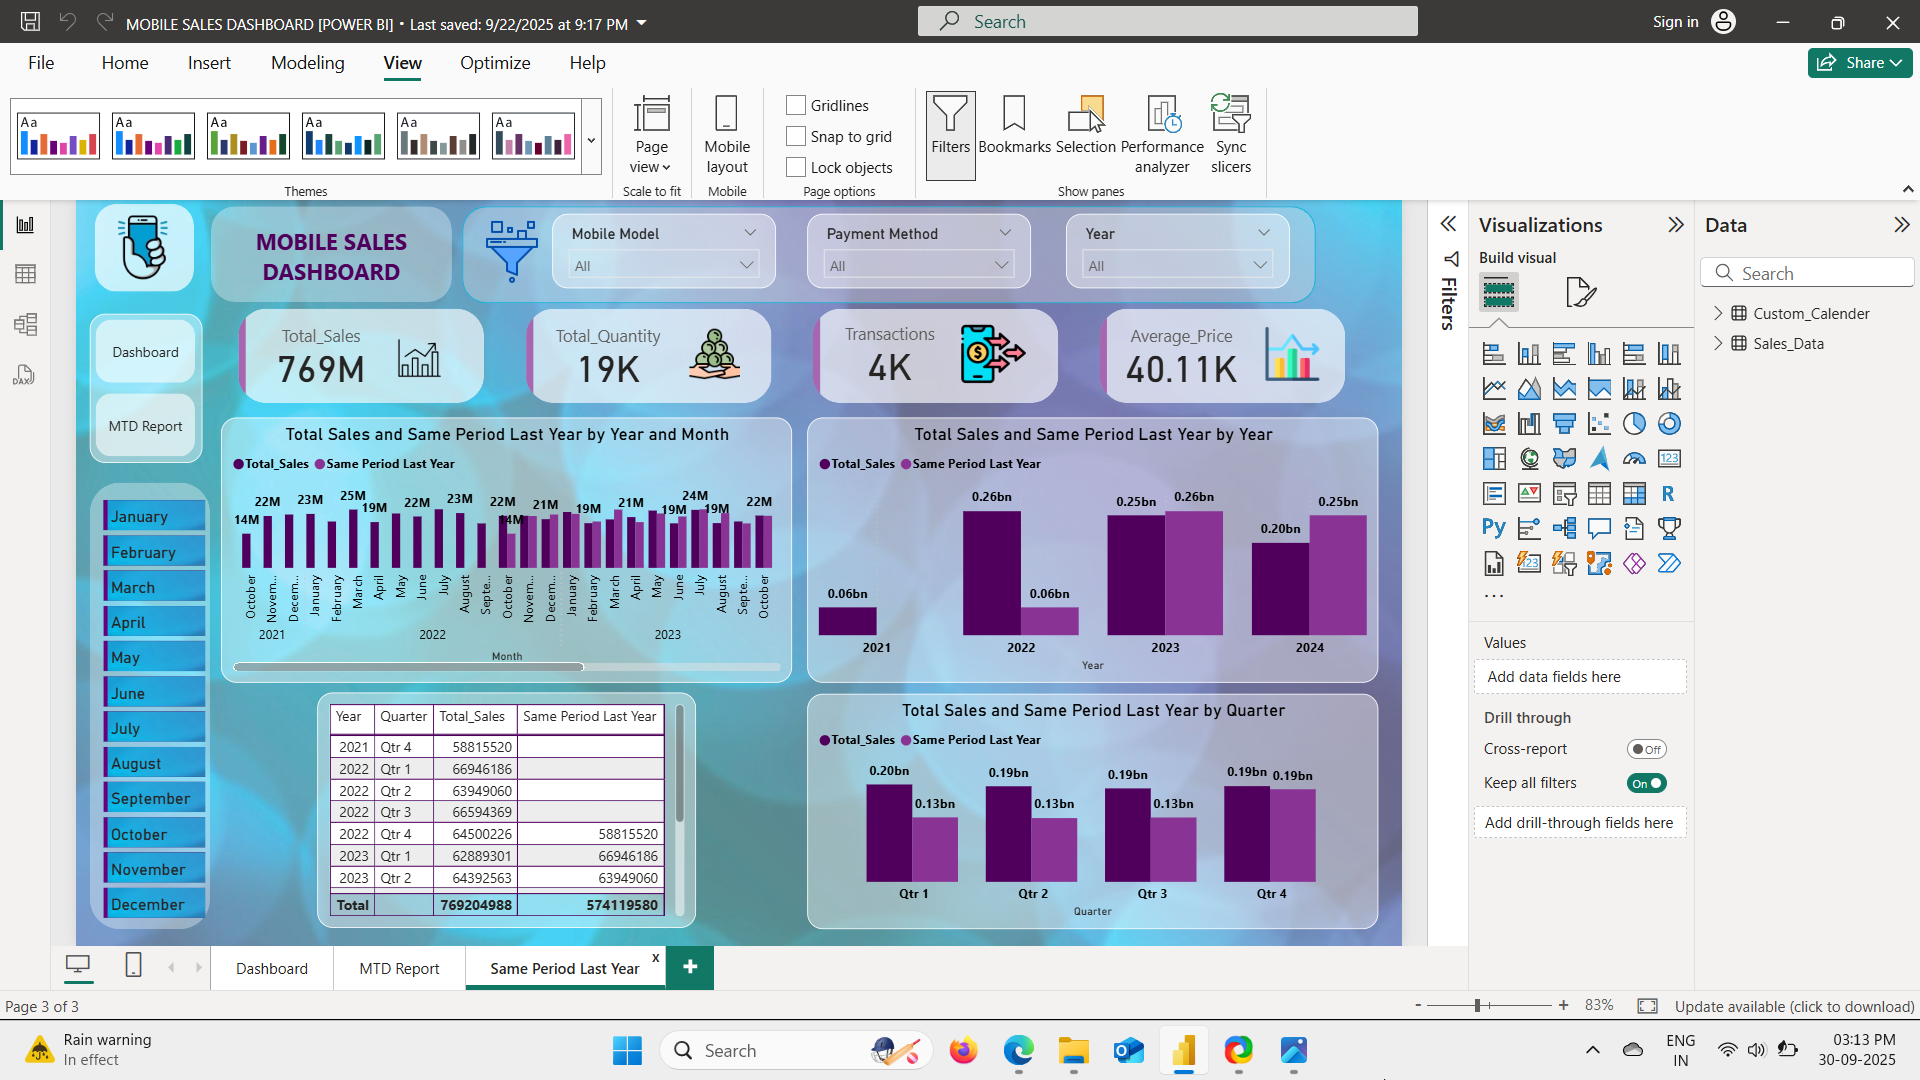

The page's visual inventory and layout, read from the dashboard file:
{"tool":"powerbi","page":{"name":"Same Period Last Year","canvas":[1280,720],"ordinal":2},"visuals":[{"type":"shape","box":[372.5,6.2,823.8,93.8],"z":0},{"type":"slicer","fields":{"Values":["Sales_Data.Mobile Model"]},"box":[460,13.3,216,72],"z":1000},{"type":"slicer","fields":{"Values":["Sales_Data.Payment Method"]},"box":[705.3,13.3,216,72],"z":2000},{"type":"slicer","fields":{"Values":["Custom_Calender.Date.Variation.Date Hierarchy.Year"]},"box":[956,13.3,216,72],"z":3000},{"type":"shape","box":[130,6.2,232.5,92.5],"z":4000},{"type":"textbox","box":[130,20,232.5,68.8],"z":5000},{"type":"shape","box":[13.8,272.5,116.2,431.2],"z":6000},{"type":"advancedSlicerVisual","fields":{"Values":["Custom_Calender.Date.Variation.Date Hierarchy.Month"]},"box":[21.2,285,108.8,418.8],"z":7000},{"type":"tableEx","fields":{"Values":["Custom_Calender.Date.Variation.Date Hierarchy.Year","Custom_Calender.Date.Variation.Date Hierarchy.Quarter","Sales_Data.Total_Sales","Sales_Data.Same Period Last Year"]},"box":[232.9,475.7,365.7,227.1],"z":8000},{"type":"clusteredColumnChart","title":"Total Sales and Same Period Last Year by Year","fields":{"Category":["Custom_Calender.Date.Variation.Date Hierarchy.Year","Custom_Calender.Date.Variation.Date Hierarchy.Quarter"],"Y":["Sales_Data.Total_Sales","Sales_Data.Same Period Last Year"]},"box":[705.7,210,551.4,255.7],"z":9000},{"type":"clusteredColumnChart","title":"Total Sales and Same Period Last Year by Year and Month","fields":{"Y":["Sales_Data.Total_Sales","Sales_Data.Same Period Last Year"],"Category":["Custom_Calender.Date.Variation.Date Hierarchy.Year","Custom_Calender.Date.Variation.Date Hierarchy.Month"]},"box":[140,210,551.4,255.7],"z":10000},{"type":"clusteredColumnChart","title":"Total Sales and Same Period Last Year by Quarter","fields":{"Category":["Custom_Calender.Date.Variation.Date Hierarchy.Year","Custom_Calender.Date.Variation.Date Hierarchy.Quarter"],"Y":["Sales_Data.Total_Sales","Sales_Data.Same Period Last Year"]},"box":[705.7,477.1,551.4,227.1],"z":11000},{"type":"pageNavigator","box":[12.9,110,108.6,144.3],"z":12000},{"type":"cardVisual","fields":{"Data":["Sales_Data.Total_Sales","Sales_Data.Total_Quantity","Sales_Data.Transactions","Sales_Data.Average_Price"]},"box":[151.7,100,1078.3,101.7],"z":13000},{"type":"shape","box":[18.3,4.2,95.8,85],"z":14000},{"type":"image","box":[10,0,110,91.4],"z":15000},{"type":"image","box":[381.4,14.3,78.6,71.4],"z":16000}]}

Visuals, with their boxes on the page's 1280x720 design canvas (x1, y1, x2, y2). These are canvas units, not pixel positions in the 1920x1080 screenshot, which may show the page scaled, cropped or inside an application window:
shape: 372/6/1196/100
slicer - Sales_Data.Mobile Model: 460/13/676/85
slicer - Sales_Data.Payment Method: 705/13/921/85
slicer - Custom_Calender.Date.Variation.Date Hierarchy.Year: 956/13/1172/85
shape: 130/6/362/99
textbox: 130/20/362/89
shape: 14/272/130/704
advancedSlicerVisual - Custom_Calender.Date.Variation.Date Hierarchy.Month: 21/285/130/704
tableEx - Custom_Calender.Date.Variation.Date Hierarchy.Year x Custom_Calender.Date.Variation.Date Hierarchy.Quarter: 233/476/599/703
"Total Sales and Same Period Last Year by Year" clusteredColumnChart: 706/210/1257/466
"Total Sales and Same Period Last Year by Year and Month" clusteredColumnChart: 140/210/691/466
"Total Sales and Same Period Last Year by Quarter" clusteredColumnChart: 706/477/1257/704
pageNavigator: 13/110/122/254
cardVisual - Sales_Data.Total_Sales x Sales_Data.Total_Quantity: 152/100/1230/202
shape: 18/4/114/89
image: 10/0/120/91
image: 381/14/460/86
